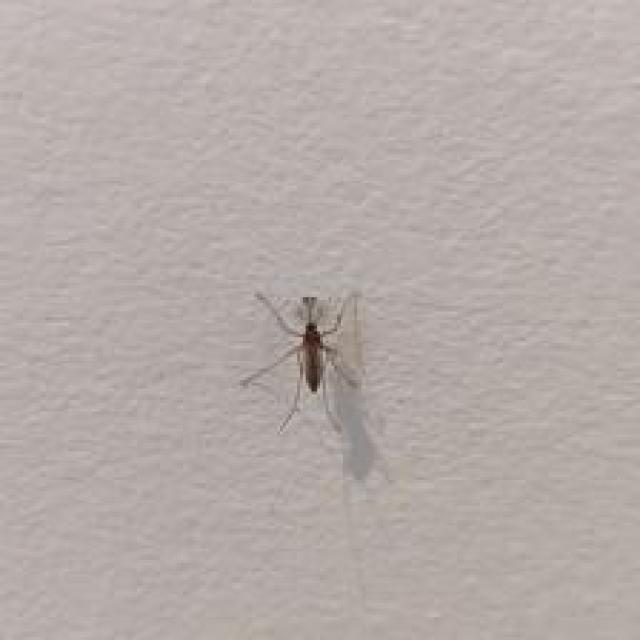Culex: (239, 287, 367, 436)
